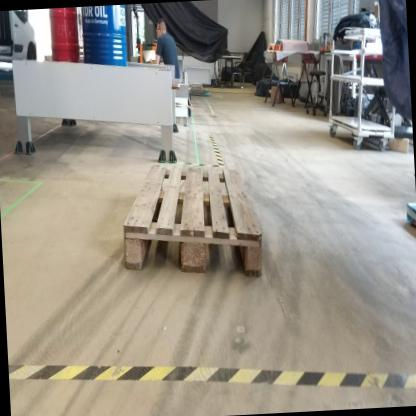BoxFace: (117, 157, 267, 285)
